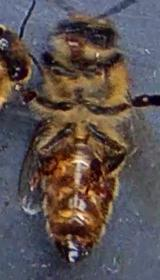varroa_mite: (88, 175, 113, 201)
